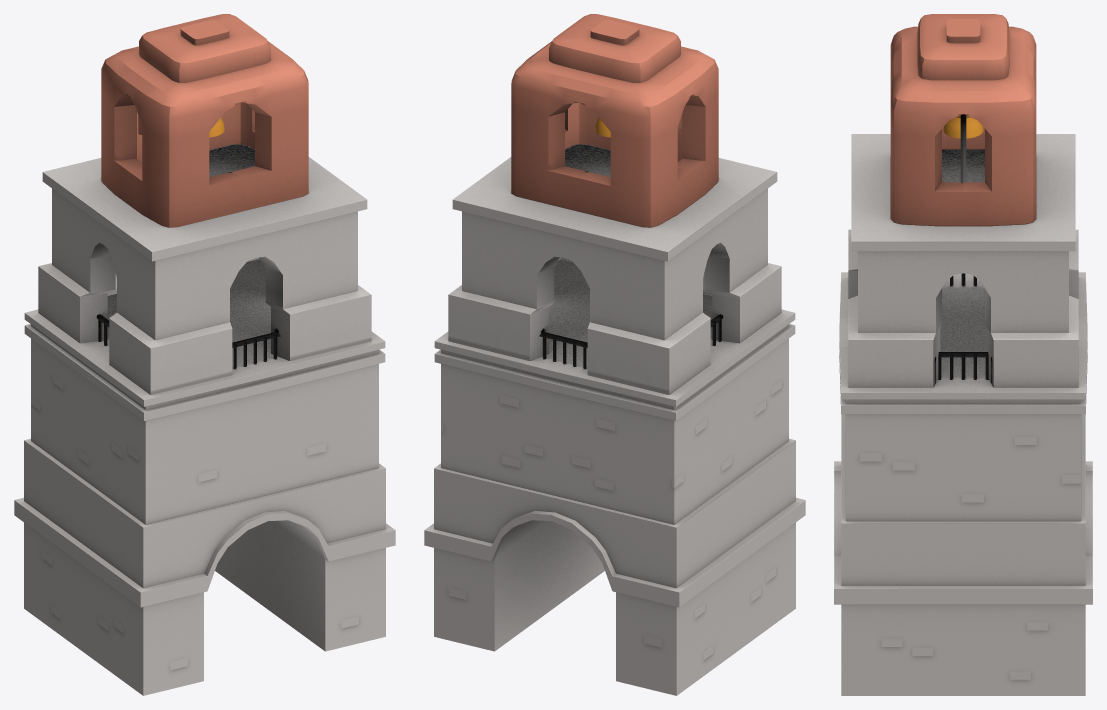
File: Bell tower.fbx
3 renders of one model, left to right at view 1: azimuth 30°, elevation 25°; view 2: azimuth 150°, elevation 25°; view 3: azimuth 270°, elevation 25°, orthographic. The views are drawn at different scales.
Visible parts, largest first — view 1: Bell tower; view 2: Bell tower; view 3: Bell tower.
Part boxes in pixels (x1=…): Bell tower: x1=14, y1=14, x2=395, y2=695; Bell tower: x1=424, y1=14, x2=805, y2=695; Bell tower: x1=834, y1=14, x2=1092, y2=695.
Size of the model in its own units: 13.01 by 28.9 by 11.16.
Materials: 1 (1 with a texture image).
